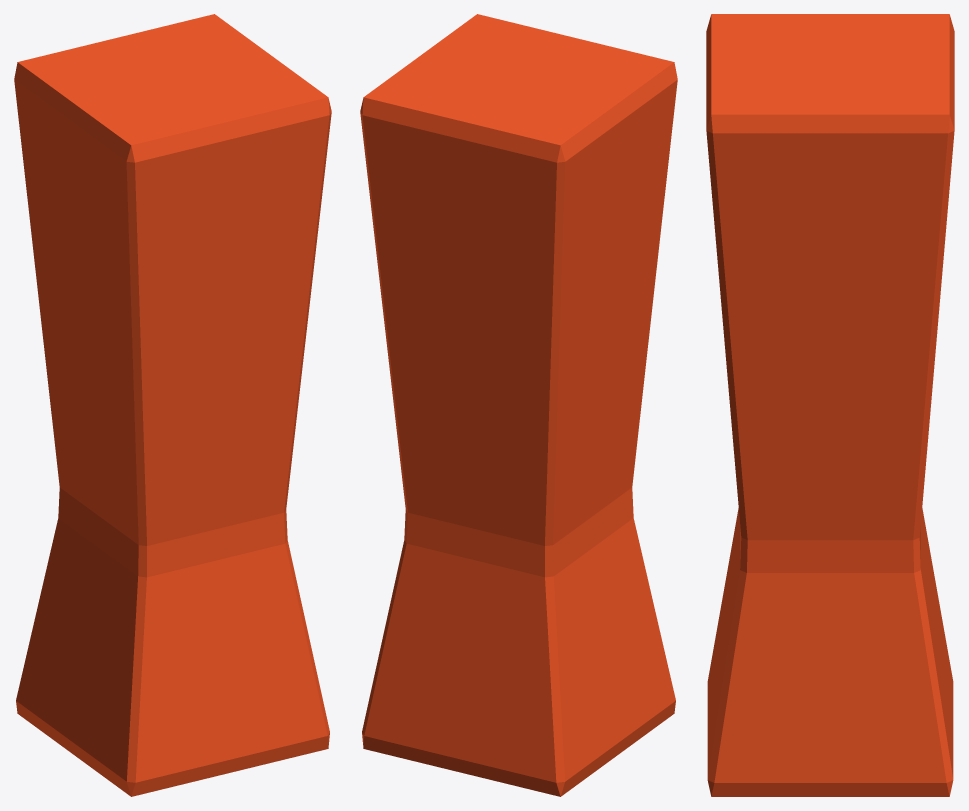
The model's file is token_quad_big.fbx.
3 renders of one model, left to right at view 1: azimuth 30°, elevation 25°; view 2: azimuth 150°, elevation 25°; view 3: azimuth 270°, elevation 25°, orthographic. The views are drawn at different scales.
Visible parts, largest first — view 1: token_quad_big_1; view 2: token_quad_big_1; view 3: token_quad_big_1.
Part boxes in pixels (bbox=[...]): token_quad_big_1: bbox=[14, 14, 331, 796]; token_quad_big_1: bbox=[360, 14, 677, 796]; token_quad_big_1: bbox=[706, 14, 954, 796].
Size of the model in its own units: 198 by 600 by 198.
